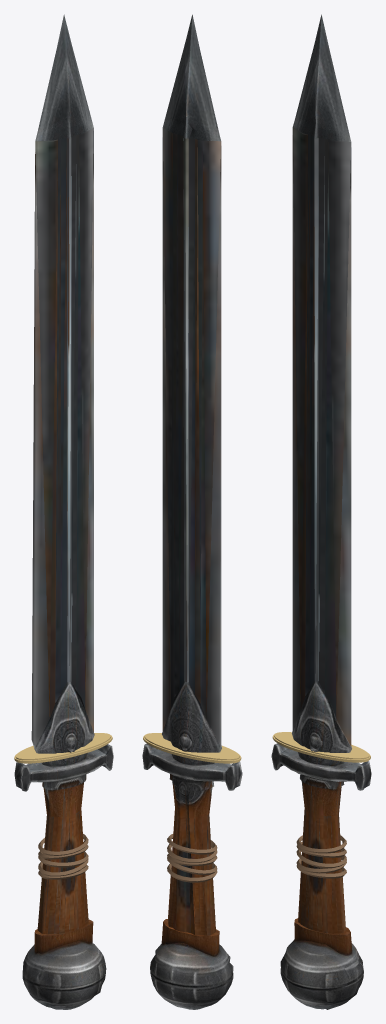
Rendered from weap_roman_spatha_0.glb.
3 views of the same model, side by side, from view 1: azimuth 30°, elevation 25°; view 2: azimuth 150°, elevation 25°; view 3: azimuth 330°, elevation 25° (orthographic).
Parts seen in each view (by area): view 1: MeshyGear_weap_roman_spatha, Q_LE0_RepairThong, Q_GE3_GuardPlate; view 2: MeshyGear_weap_roman_spatha, Q_LE0_RepairThong, Q_GE3_GuardPlate; view 3: MeshyGear_weap_roman_spatha, Q_LE0_RepairThong, Q_GE3_GuardPlate.
Part boxes in pixels (x1=…): MeshyGear_weap_roman_spatha: x1=14, y1=14, x2=113, y2=1009; Q_LE0_RepairThong: x1=38, y1=834, x2=88, y2=879; Q_GE3_GuardPlate: x1=14, y1=733, x2=112, y2=763; MeshyGear_weap_roman_spatha: x1=142, y1=14, x2=242, y2=1009; Q_LE0_RepairThong: x1=167, y1=834, x2=217, y2=882; Q_GE3_GuardPlate: x1=143, y1=733, x2=241, y2=763; MeshyGear_weap_roman_spatha: x1=271, y1=14, x2=371, y2=1009; Q_LE0_RepairThong: x1=296, y1=835, x2=346, y2=878; Q_GE3_GuardPlate: x1=272, y1=732, x2=370, y2=762.
Bounding box in the file's own units: 0.0914 × 0.9 × 0.0639.
3 materials, 1 textured.
